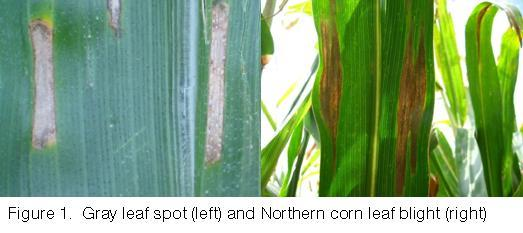Corn Gray leaf spot: (1, 1, 261, 196)
